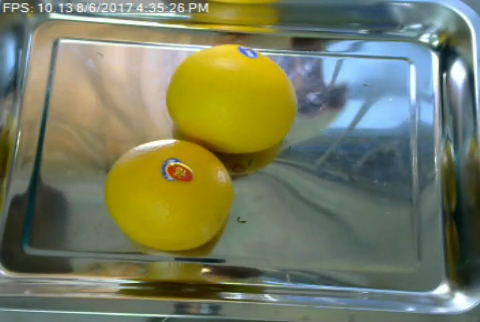Orange: (104, 137, 233, 250), (166, 44, 295, 153)
